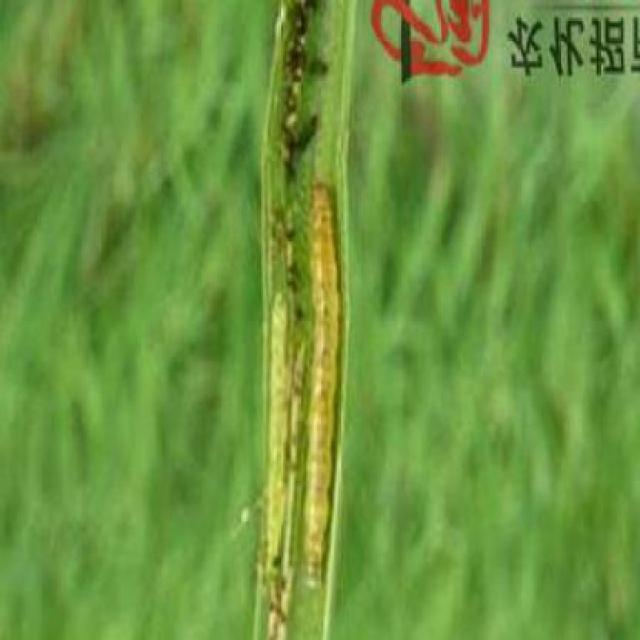leaf-folder: (282, 160, 344, 578)
